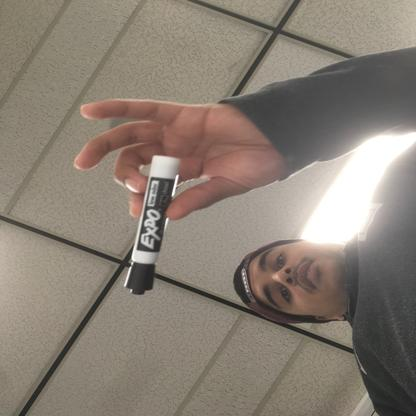expo_marker: (117, 151, 183, 299)
